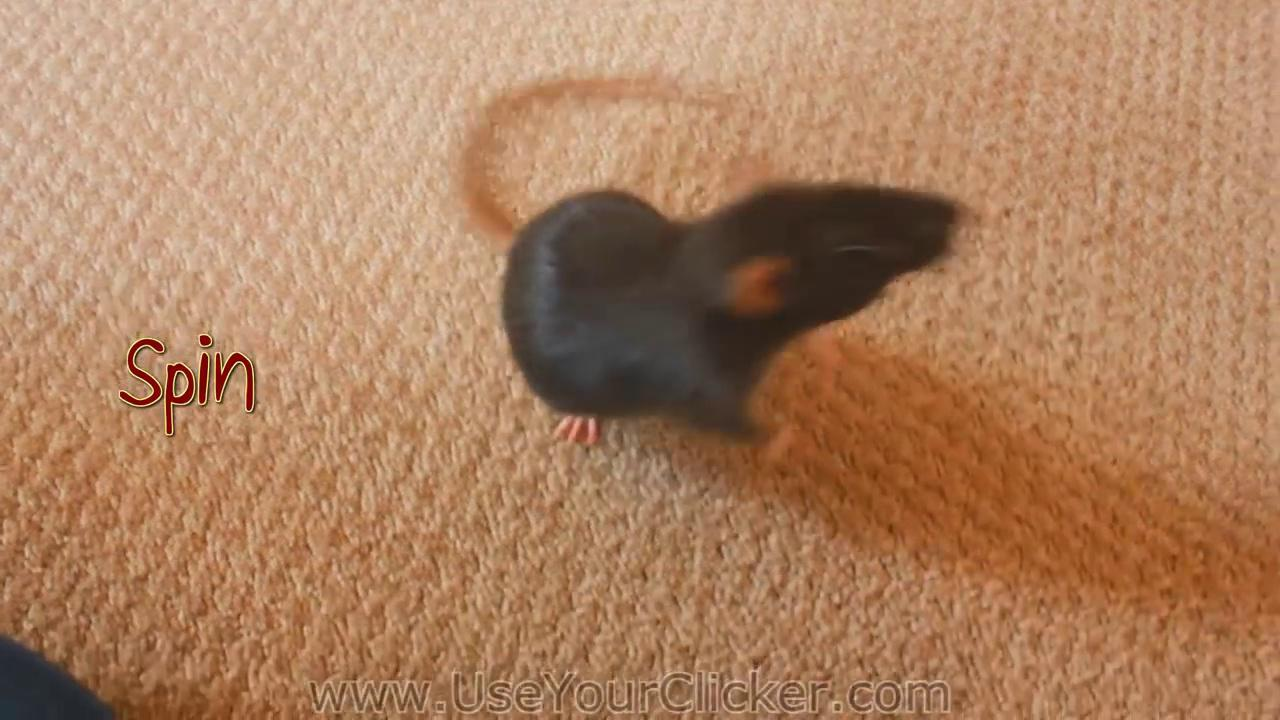rat: (452, 72, 962, 460)
